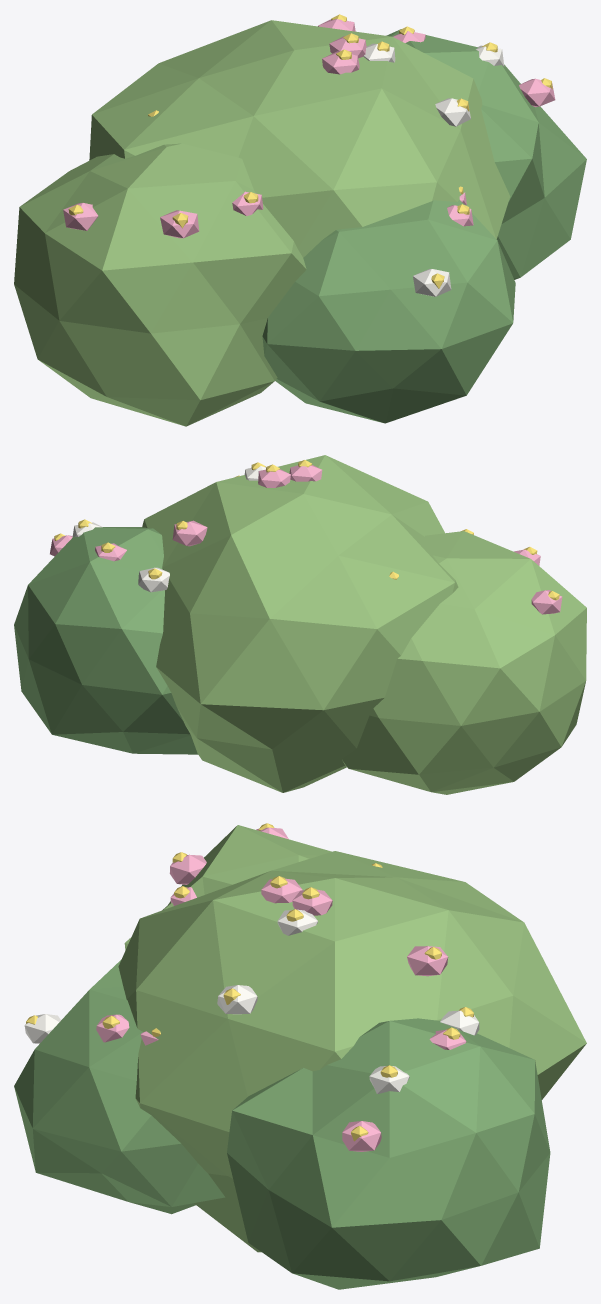
Rendered from Bush_Flower.fbx.
3 views of the same model, one above another, from view 1: azimuth 30°, elevation 25°; view 2: azimuth 150°, elevation 25°; view 3: azimuth 270°, elevation 25° (orthographic). The views are drawn at different scales.
Parts seen in each view (by area): view 1: Bush_Flower; view 2: Bush_Flower; view 3: Bush_Flower.
Boxes of the visible parts, x1=… form: Bush_Flower: x1=14, y1=14, x2=586, y2=426; Bush_Flower: x1=14, y1=455, x2=586, y2=794; Bush_Flower: x1=14, y1=823, x2=586, y2=1289.
Size of the model in its own units: 1.97 by 1.14 by 1.58.
